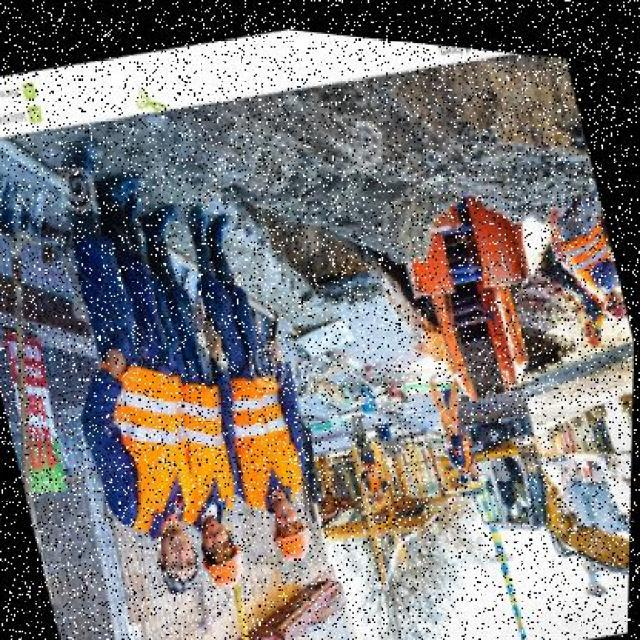helmet: (194, 526, 254, 588), (269, 514, 313, 559)
vest: (77, 325, 191, 527), (200, 345, 316, 507), (146, 334, 242, 529)
